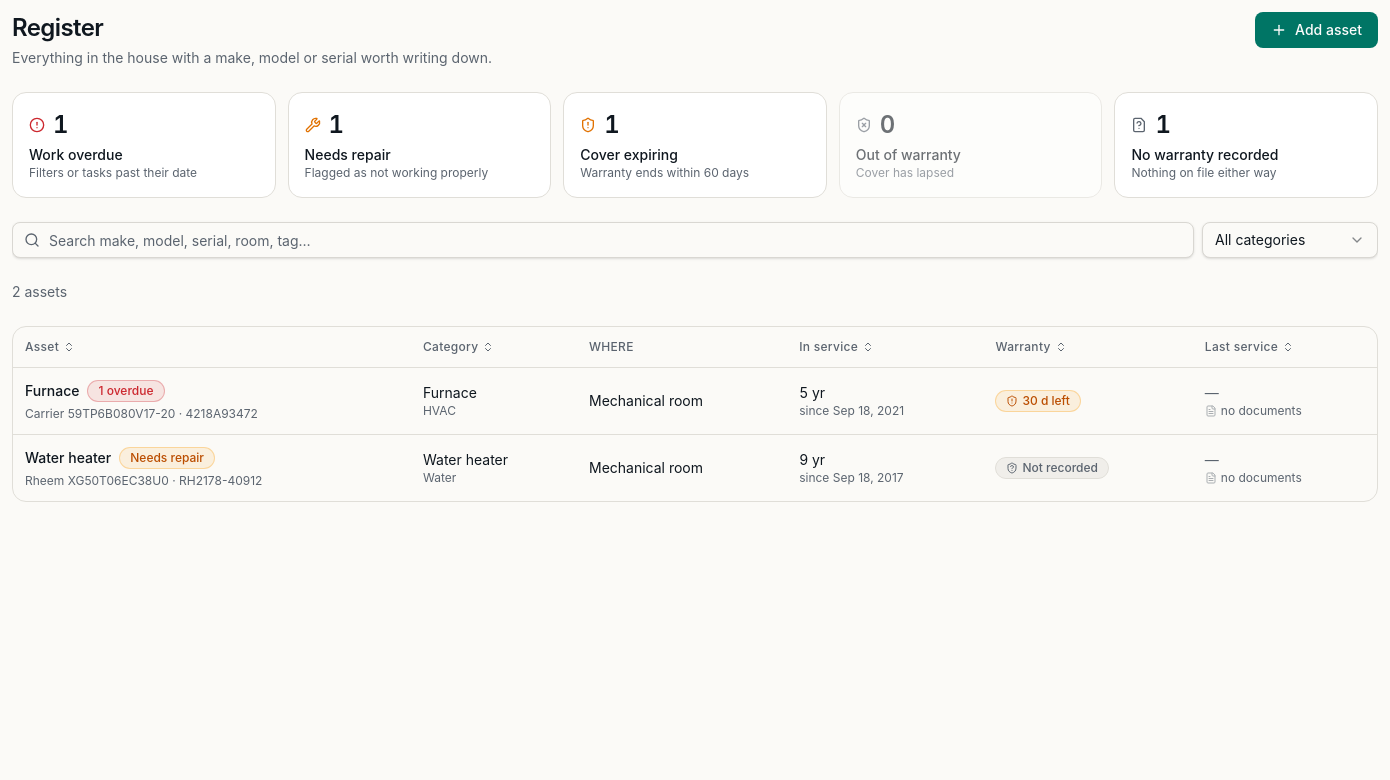
it: AssetsPage › offers a way out when a filter matches nothing
Check: the link "Furnace" is shown, box [25, 380, 80, 400]
Type "zzzz" into the field named "Search the register". click: (603, 240)
box: [12, 222, 1194, 258]
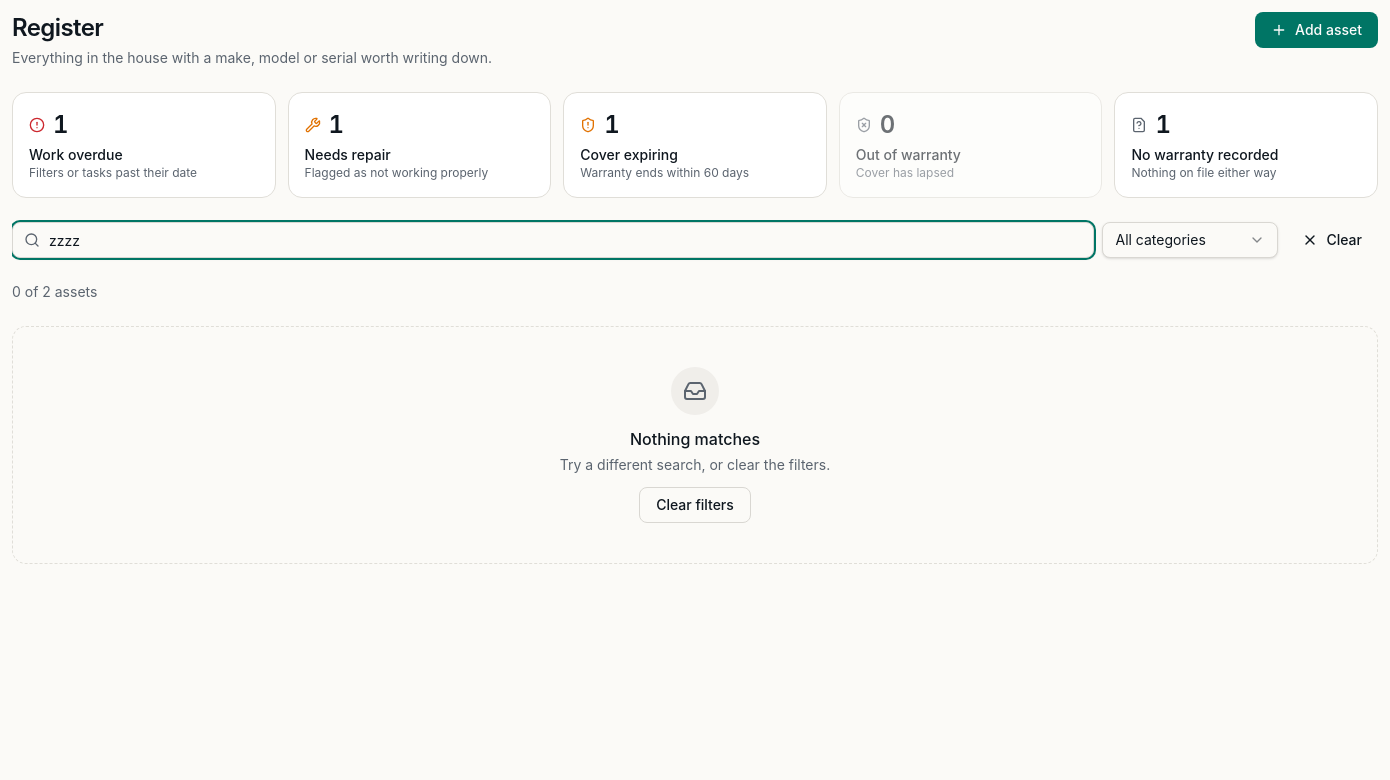
Check: the text "Nothing matches" is shown, box [630, 429, 760, 449]
Click the button "Clear filters". click: (695, 505)
box: [639, 487, 751, 523]
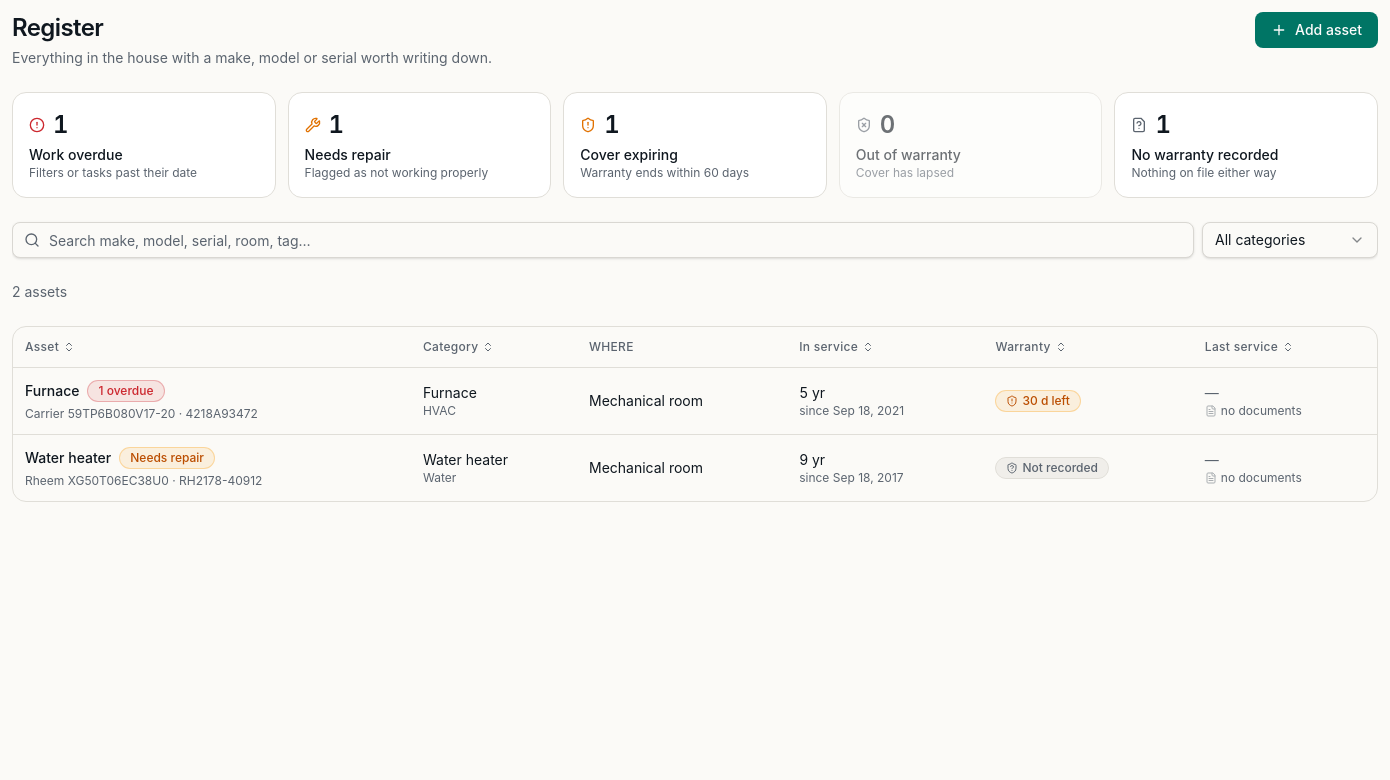
Check: the link "Furnace" is shown, box [25, 380, 80, 400]
